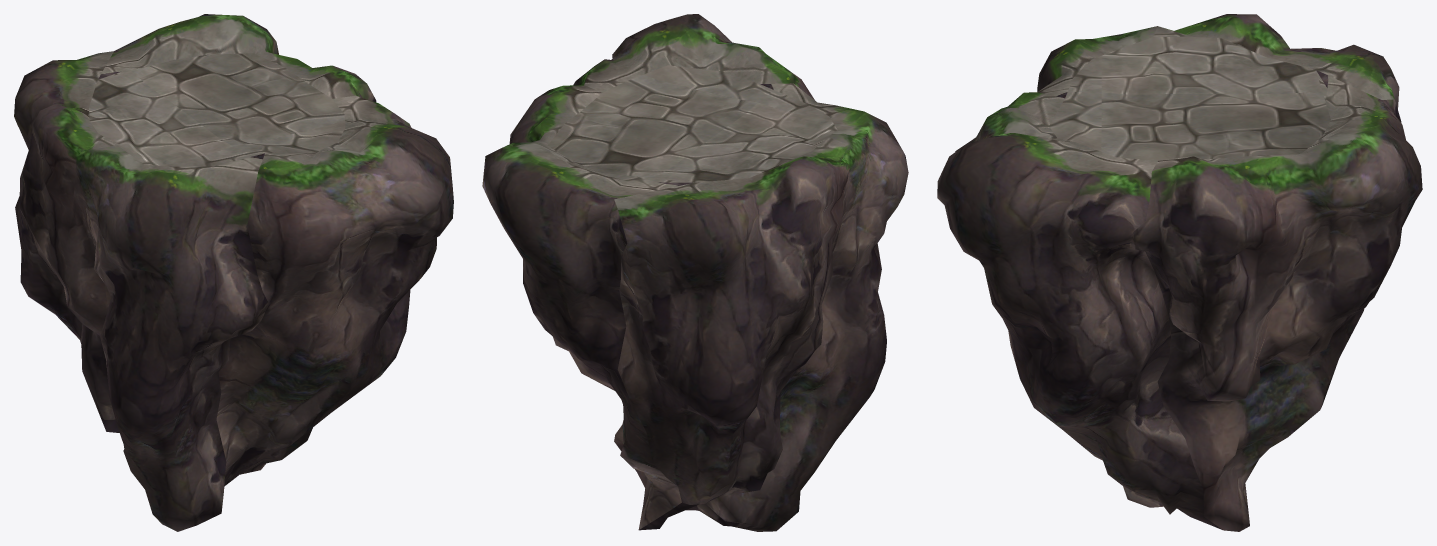
The model's file is Stage_ZhuCheng_ShanTi02.FBX.
3 views of the same model, side by side, from view 1: azimuth 30°, elevation 25°; view 2: azimuth 150°, elevation 25°; view 3: azimuth 270°, elevation 25° (orthographic). The views are drawn at different scales.
Parts seen in each view (by area): view 1: Stage_ZhuCheng_ShanTi02; view 2: Stage_ZhuCheng_ShanTi02; view 3: Stage_ZhuCheng_ShanTi02.
Part boxes in pixels (box(x1,y1,x2,y2)): Stage_ZhuCheng_ShanTi02: box(14, 14, 453, 531); Stage_ZhuCheng_ShanTi02: box(482, 14, 908, 531); Stage_ZhuCheng_ShanTi02: box(937, 14, 1422, 531).
Size of the model in its own units: 1376 by 1709 by 1702.
